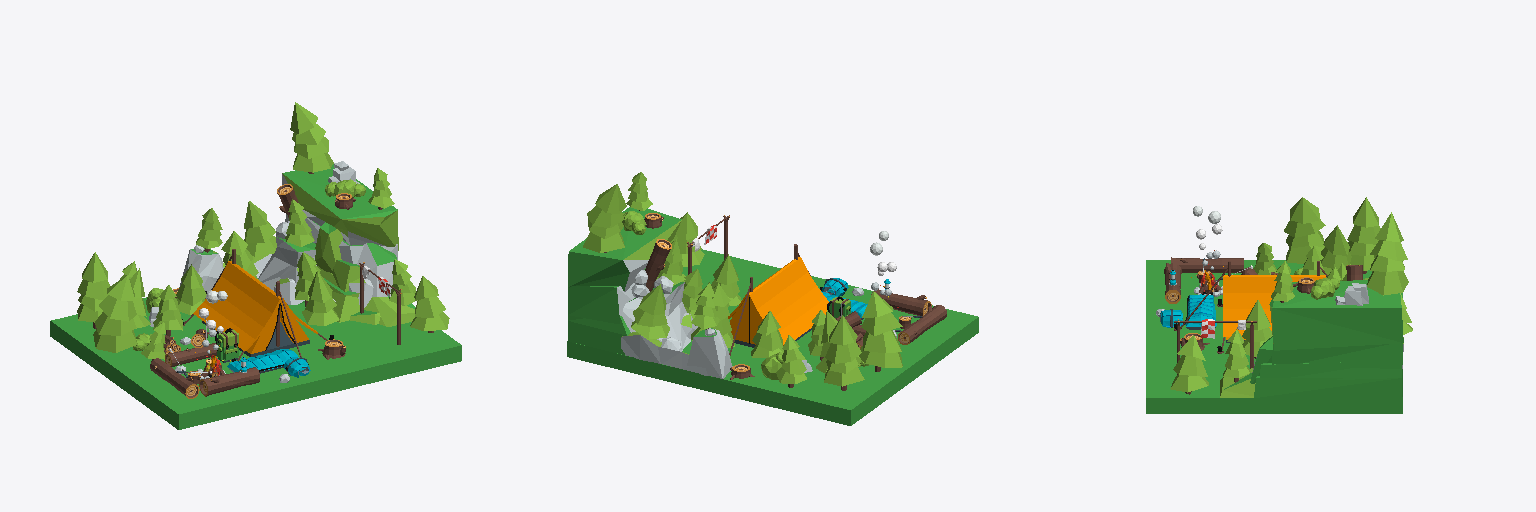
File: tent.obj
The picture shows the model from 3 angles: view 1: azimuth 30°, elevation 25°; view 2: azimuth 150°, elevation 25°; view 3: azimuth 270°, elevation 25°; orthographic projection.
Parts seen in each view (by area): view 1: group[number redacted], group[number redacted], group[number redacted], group[number redacted], group[number redacted], group[number redacted], group[number redacted], group[number redacted], group[number redacted], group[number redacted], group[number redacted], group[number redacted] (+21 smaller); view 2: group[number redacted], group[number redacted], group[number redacted], group[number redacted], group[number redacted], group[number redacted], group[number redacted], group[number redacted], group[number redacted], group[number redacted], group[number redacted], group[number redacted] (+14 smaller); view 3: group[number redacted], group[number redacted], group[number redacted], group[number redacted], group[number redacted], group[number redacted], group[number redacted], group[number redacted], group[number redacted], group[number redacted], group[number redacted], group[number redacted] (+8 smaller).
Part boxes in pixels (left/top/right/bottom): group[number redacted]: left=50, top=297, right=461, bottom=429; group[number redacted]: left=282, top=164, right=398, bottom=250; group[number redacted]: left=193, top=261, right=280, bottom=350; group[number redacted]: left=93, top=275, right=137, bottom=352; group[number redacted]: left=290, top=102, right=333, bottom=173; group[number redacted]: left=77, top=252, right=109, bottom=328; group[number redacted]: left=258, top=237, right=316, bottom=303; group[number redacted]: left=410, top=276, right=449, bottom=332; group[number redacted]: left=244, top=201, right=276, bottom=256; group[number redacted]: left=302, top=270, right=339, bottom=325; group[number redacted]: left=357, top=243, right=396, bottom=296; group[number redacted]: left=315, top=222, right=342, bottom=272; group[number redacted]: left=567, top=249, right=978, bottom=425; group[number redacted]: left=568, top=207, right=681, bottom=291; group[number redacted]: left=749, top=257, right=828, bottom=345; group[number redacted]: left=859, top=291, right=902, bottom=371; group[number redacted]: left=583, top=184, right=626, bottom=252; group[number redacted]: left=568, top=268, right=645, bottom=323; group[number redacted]: left=824, top=315, right=864, bottom=390; group[number redacted]: left=621, top=332, right=707, bottom=375; group[number redacted]: left=687, top=328, right=732, bottom=378; group[number redacted]: left=631, top=284, right=669, bottom=338; group[number redacted]: left=622, top=282, right=690, bottom=350; group[number redacted]: left=568, top=321, right=625, bottom=354; group[number redacted]: left=1146, top=260, right=1402, bottom=413; group[number redacted]: left=1269, top=280, right=1403, bottom=350; group[number redacted]: left=1254, top=369, right=1402, bottom=397; group[number redacted]: left=1272, top=343, right=1402, bottom=368; group[number redacted]: left=1223, top=275, right=1325, bottom=336; group[number redacted]: left=1367, top=212, right=1408, bottom=295; group[number redacted]: left=1260, top=362, right=1401, bottom=379; group[number redacted]: left=1284, top=197, right=1325, bottom=263; group[number redacted]: left=1347, top=197, right=1380, bottom=273; group[number redacted]: left=1170, top=335, right=1208, bottom=394; group[number redacted]: left=1320, top=225, right=1351, bottom=277; group[number redacted]: left=1242, top=300, right=1272, bottom=358.
Bounding box in the file's own units: 6.38 × 3.73 × 5.